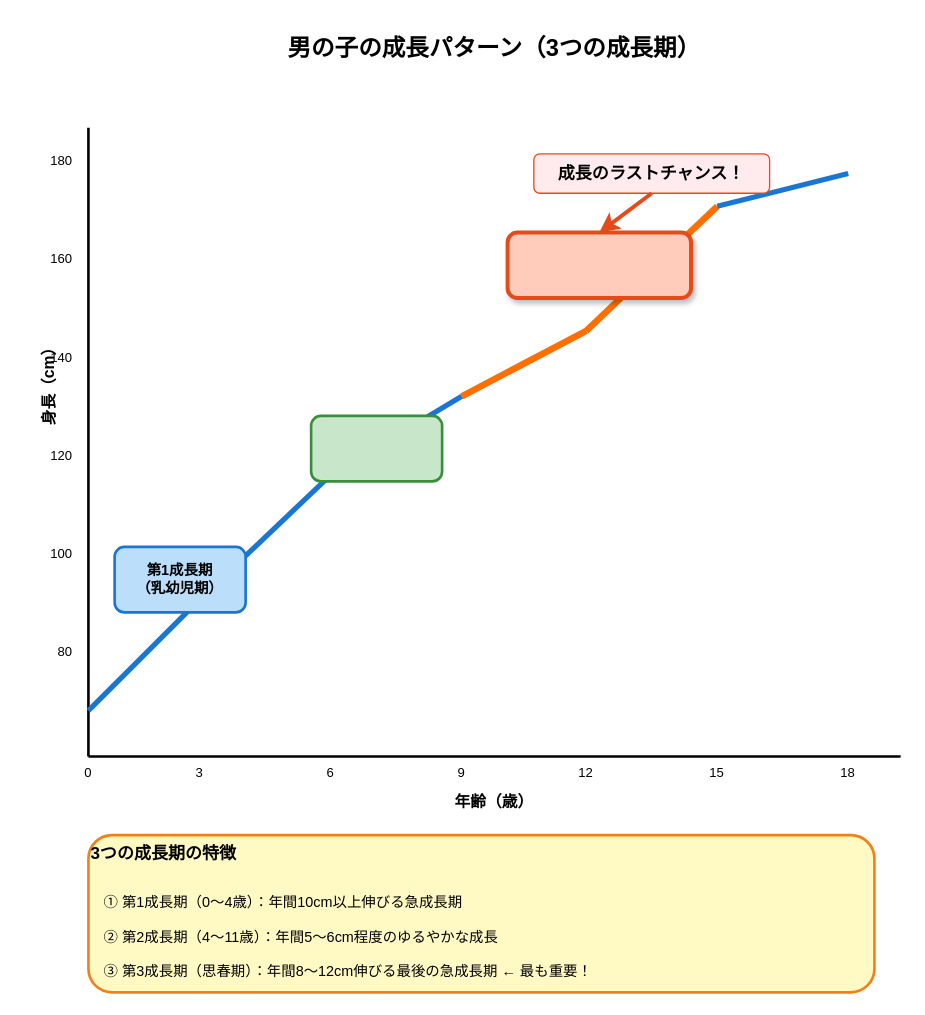
This 925x1015 diagram has some shape labels left out. The shapes that lost their labels are listed below. From the top down, each one's centre as x and y in pixels, then its label:
pixel 600 267: 第3成長期 （思春期スパート）
pixel 376 448: 第2成長期 （学童期）
